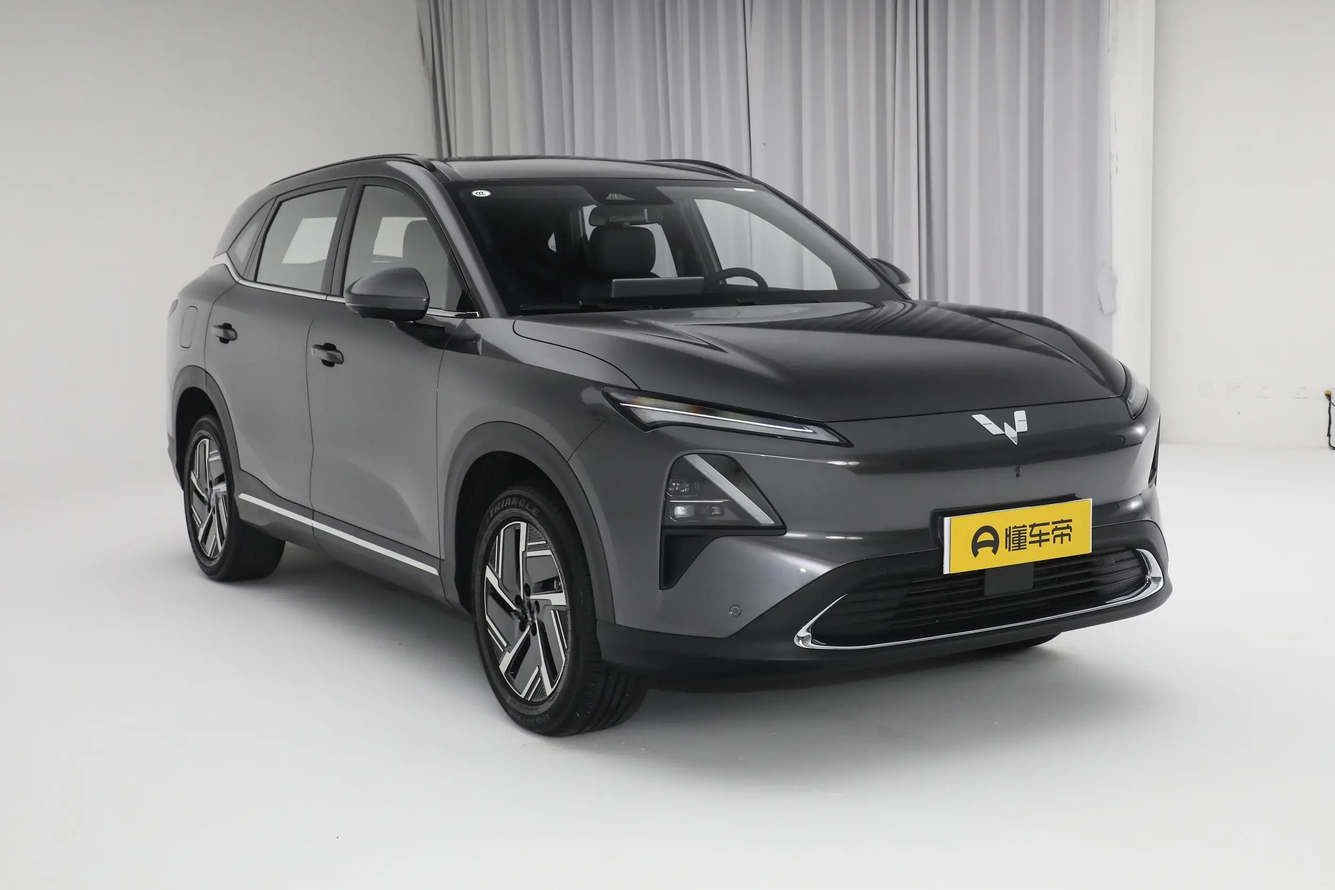SGMW: (971, 411, 1026, 444)
